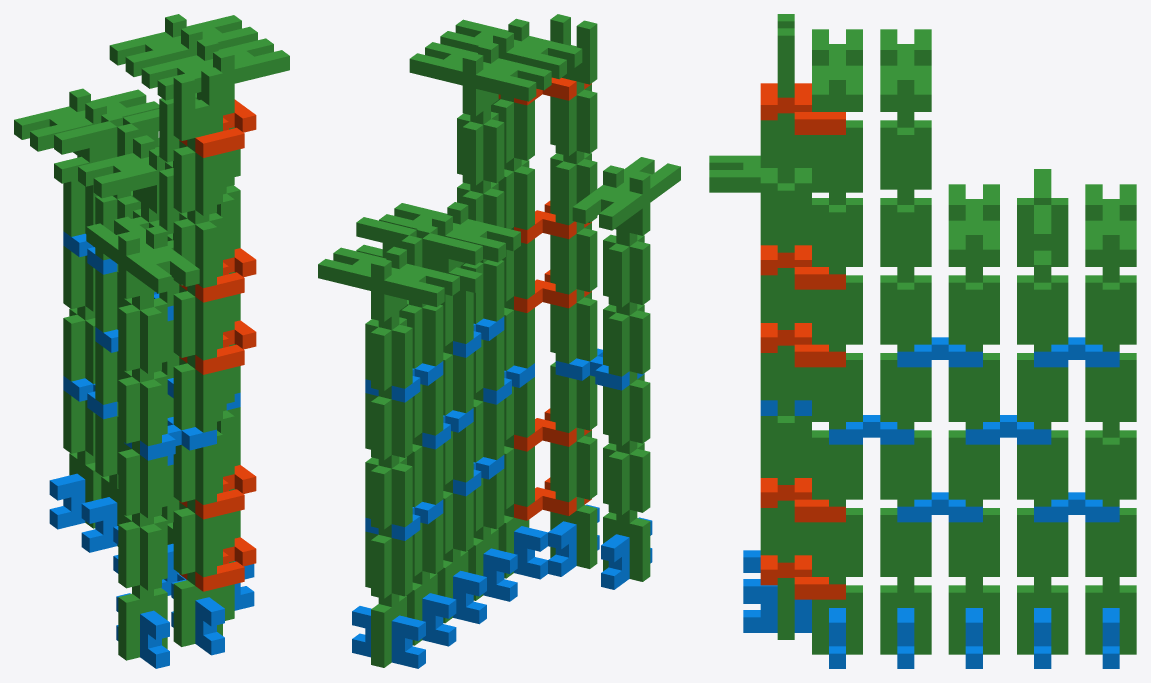
3 views of the same model, side by side, from view 1: azimuth 30°, elevation 25°; view 2: azimuth 150°, elevation 25°; view 3: azimuth 270°, elevation 25° (orthographic). The views are drawn at different scales.
Parts seen in each view (by area): view 1: H_SIM (×38), X_SIM (×10), L_SIM (×5); view 2: H_SIM (×47), X_SIM (×14), L_SIM (×5); view 3: H_SIM (×42), X_SIM (×12), L_SIM (×5).
Part boxes in pixels (left/top/right/bottom): H_SIM (×38): left=14, top=14, right=289, bottom=660; X_SIM (×10): left=49, top=231, right=254, bottom=668; L_SIM (×5): left=179, top=99, right=256, bottom=591; H_SIM (×47): left=318, top=14, right=680, bottom=667; X_SIM (×14): left=352, top=316, right=652, bottom=668; L_SIM (×5): left=498, top=77, right=591, bottom=520; H_SIM (×42): left=709, top=14, right=1136, bottom=654; X_SIM (×12): left=743, top=337, right=1119, bottom=668; L_SIM (×5): left=760, top=83, right=845, bottom=599.
Size of the model in its own units: 1.69 by 5.07 by 3.25.
